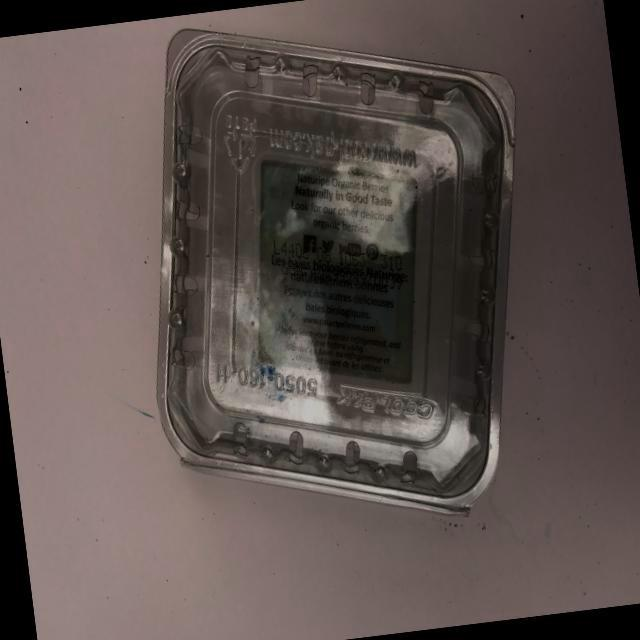plastic: (154, 27, 518, 518)
